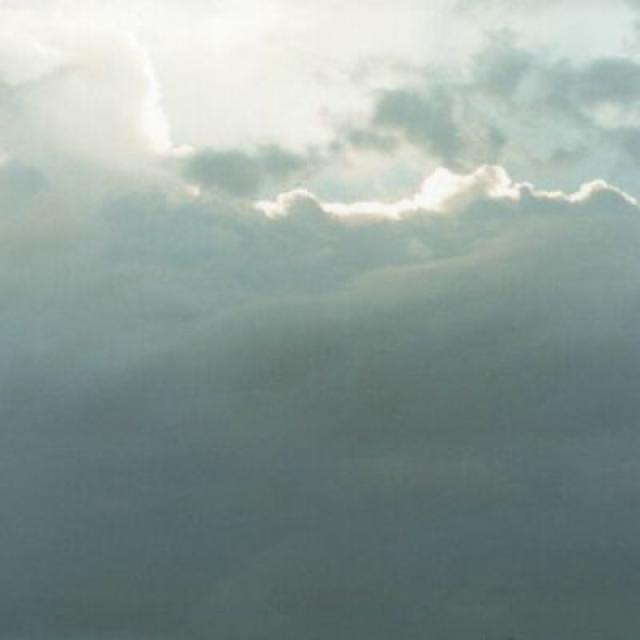St: (3, 33, 640, 435)
